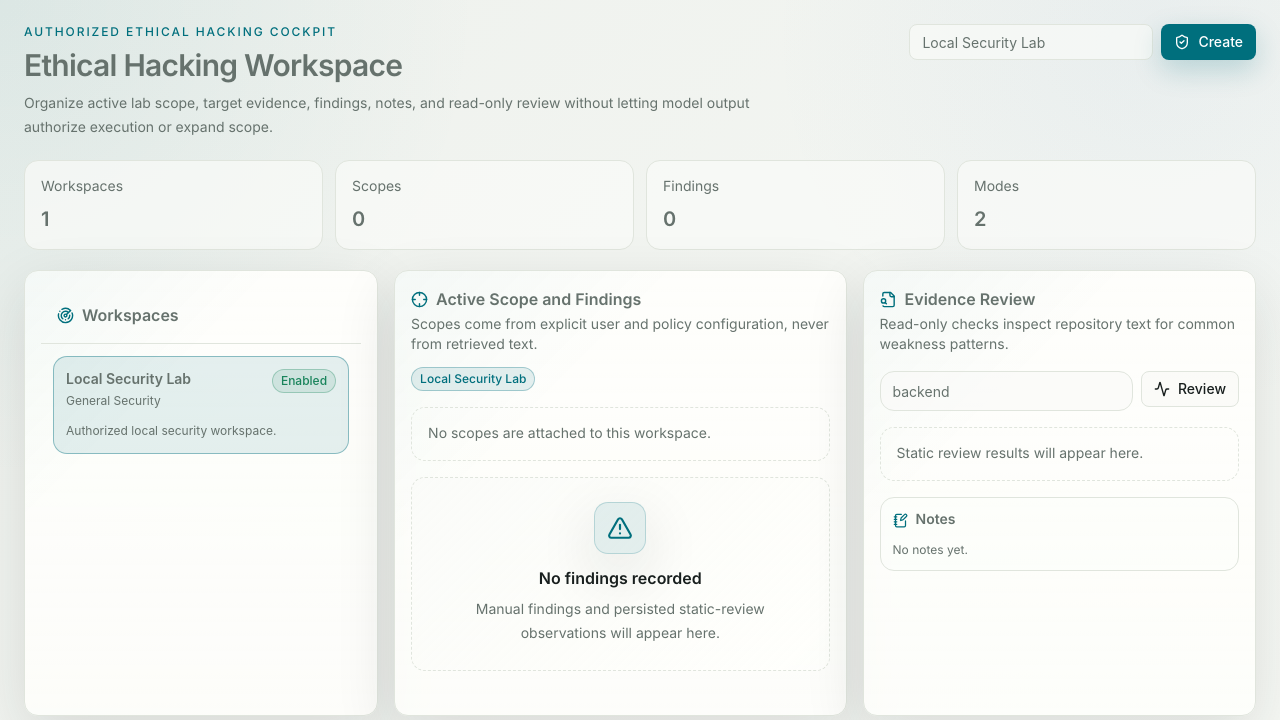
CybersecurityPage › shows security posture and runs read-only static review
Expected: the heading "Ethical Hacking Workspace" is shown, [24,48,402,84]
Click the button "Review". click: (1190, 389)
box: [1141,371,1239,407]
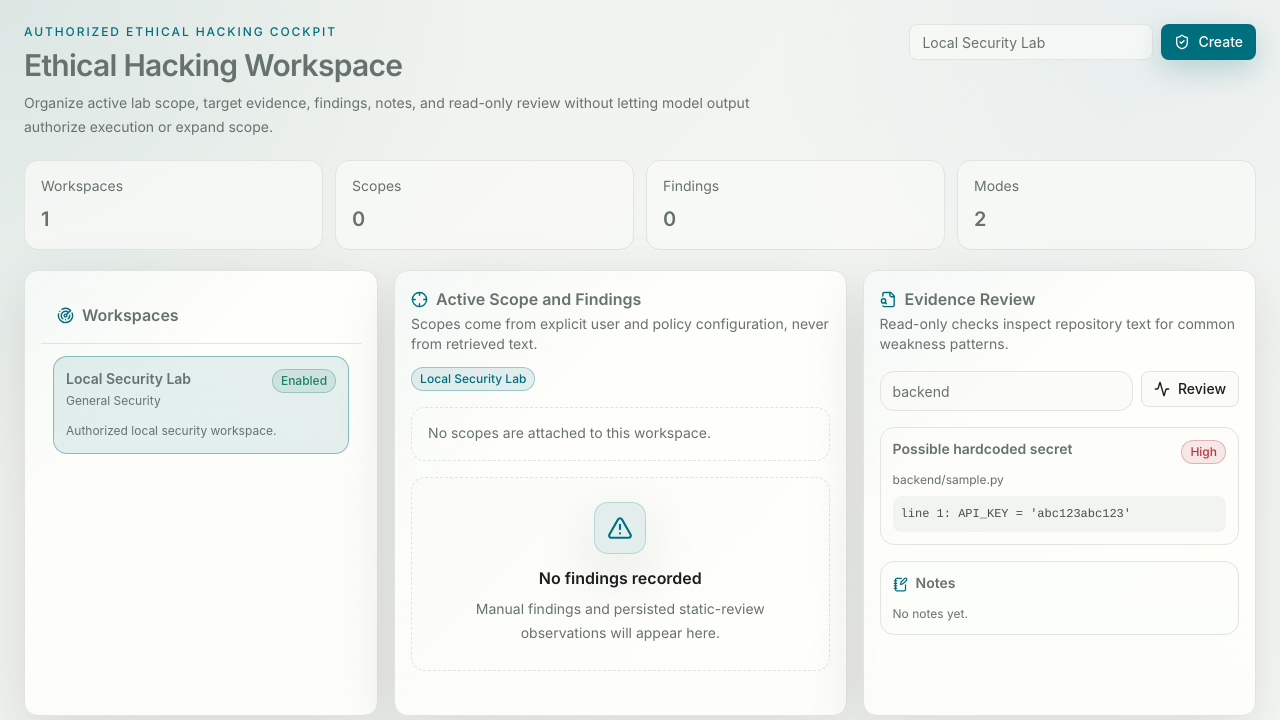
Now the text "Possible hardcoded secret" is shown, box [892,440,1072,460]
